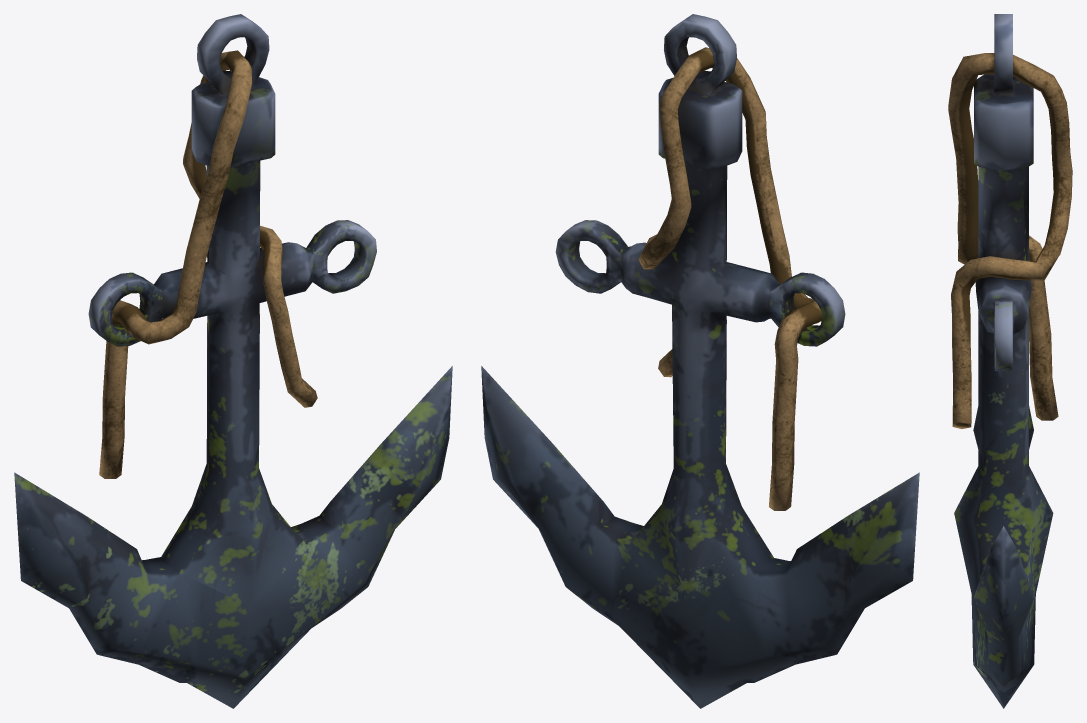
Rendered from encre.glb.
3 renders of one model, left to right at view 1: azimuth 30°, elevation 25°; view 2: azimuth 150°, elevation 25°; view 3: azimuth 270°, elevation 25°, orthographic.
Visible parts, largest first — view 1: Sidro_low, Kanap _low; view 2: Sidro_low, Kanap _low; view 3: Sidro_low, Kanap _low.
Boxes of the visible parts, x1,y1,x2,y2 form: Sidro_low: [14, 14, 452, 708]; Kanap _low: [99, 50, 317, 478]; Sidro_low: [481, 14, 919, 708]; Kanap _low: [638, 47, 821, 510]; Sidro_low: [954, 14, 1053, 708]; Kanap _low: [948, 53, 1072, 428].
Size of the model in its own units: 2.81 by 4.21 by 0.6882.
Materials: 2 (2 with a texture image).
